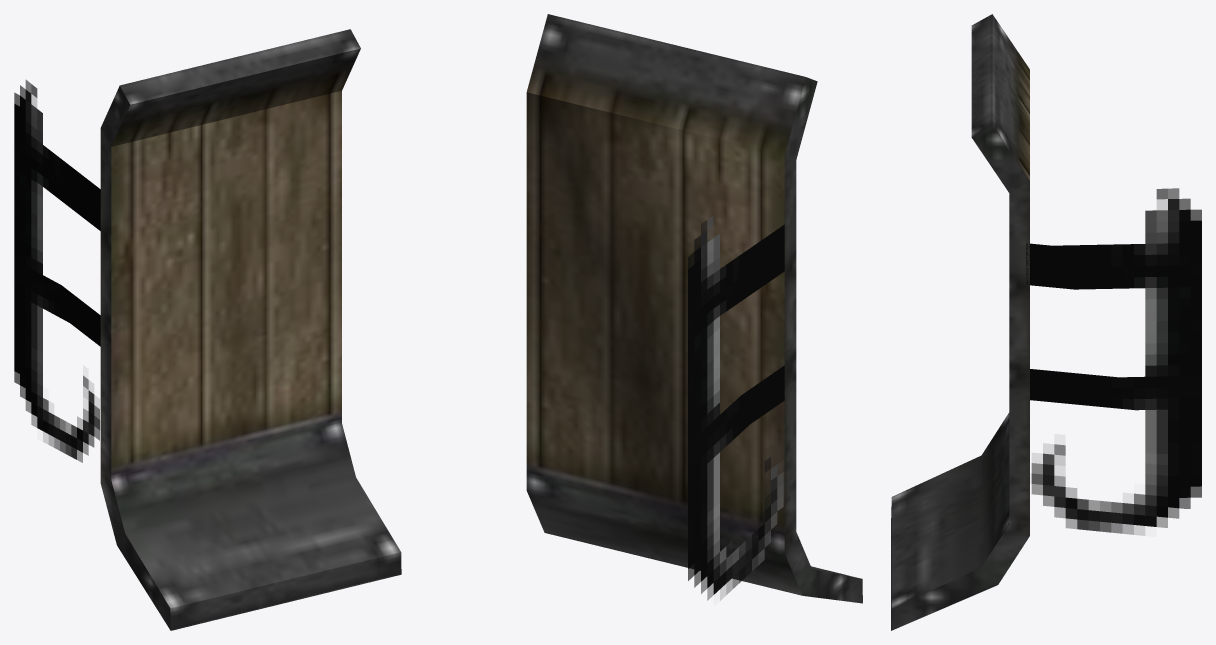
3 renders of one model, left to right at view 1: azimuth 30°, elevation 25°; view 2: azimuth 150°, elevation 25°; view 3: azimuth 270°, elevation 25°, orthographic. The views are drawn at different scales.
Parts seen in each view (by area): view 1: model_Object72; view 2: model_Object72; view 3: model_Object72.
Boxes of the visible parts, bbox=[...] form: model_Object72: bbox=[14, 29, 401, 630]; model_Object72: bbox=[526, 14, 862, 603]; model_Object72: bbox=[891, 14, 1201, 630].
Bounding box in the file's own units: 0.4128 × 0.8686 × 0.4843.
Materials: 2 (2 with a texture image).
